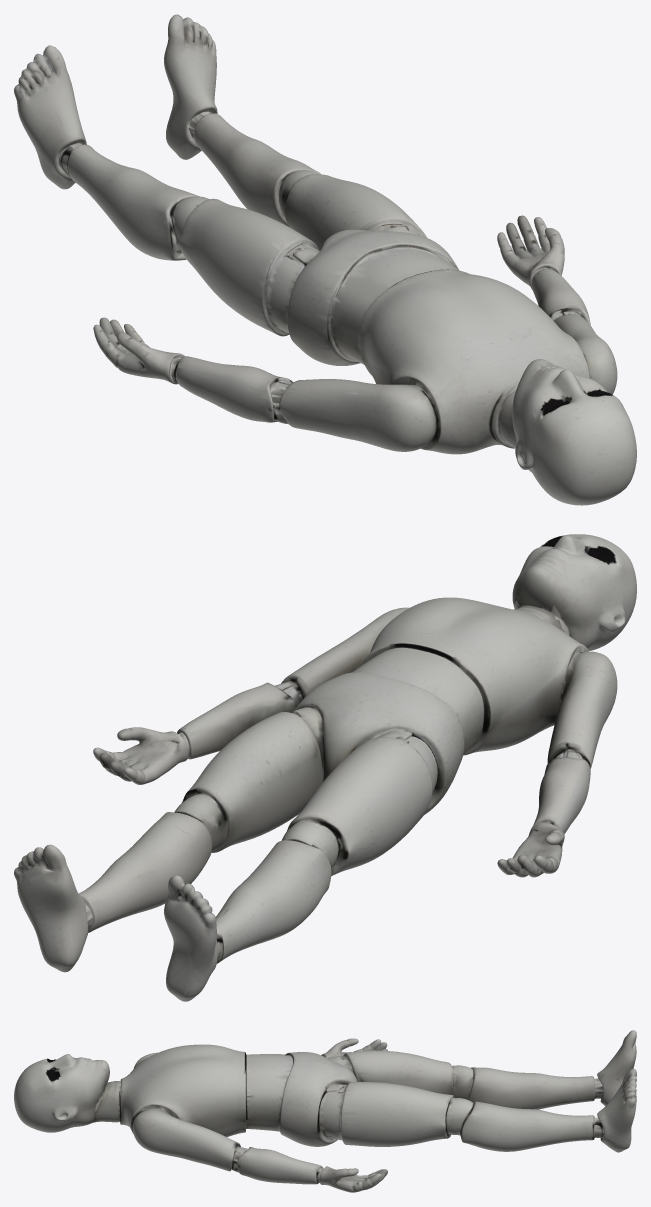
The picture shows the model from 3 angles, top to bottom: view 1: azimuth 30°, elevation 25°; view 2: azimuth 150°, elevation 25°; view 3: azimuth 270°, elevation 25°; orthographic projection. The views are drawn at different scales.
Visible parts, largest first — view 1: node_0; view 2: node_0; view 3: node_0.
Boxes of the visible parts, x1=… form: node_0: x1=14, y1=14, x2=636, y2=505; node_0: x1=14, y1=534, x2=636, y2=1001; node_0: x1=14, y1=1030, x2=636, y2=1192.
Bounding box in the file's own units: 0.6095 × 0.1764 × 1.17.
Materials: 1 (1 with a texture image).
